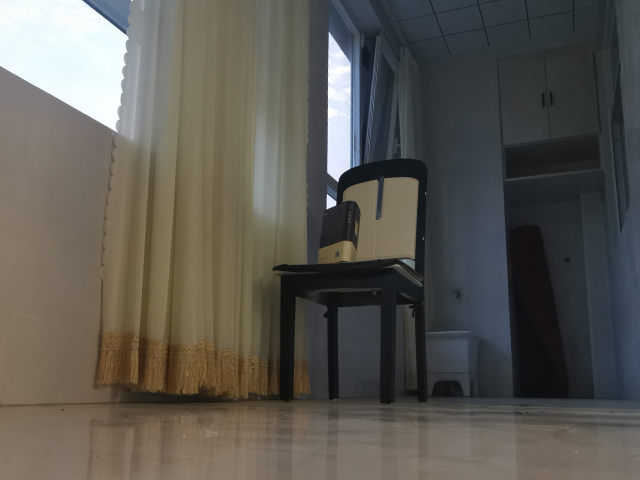book: (318, 200, 363, 264)
curtain: (90, 1, 311, 403)
stool: (270, 156, 429, 406)
